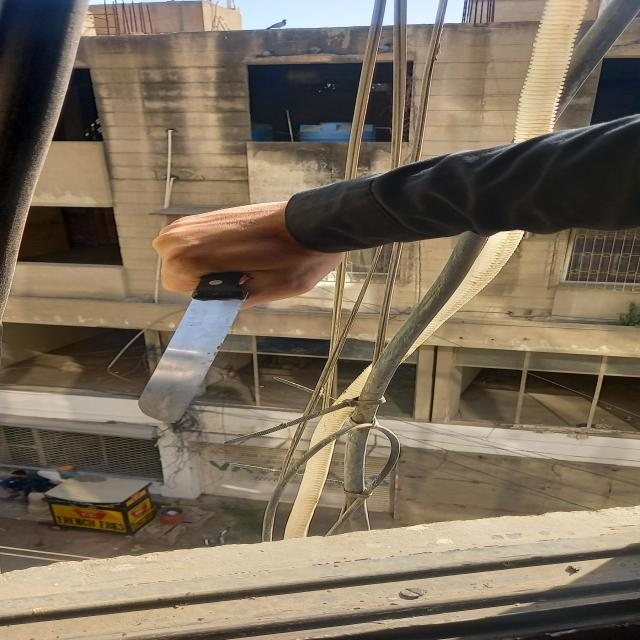Knife: (138, 271, 250, 423)
Person: (153, 114, 640, 309)
